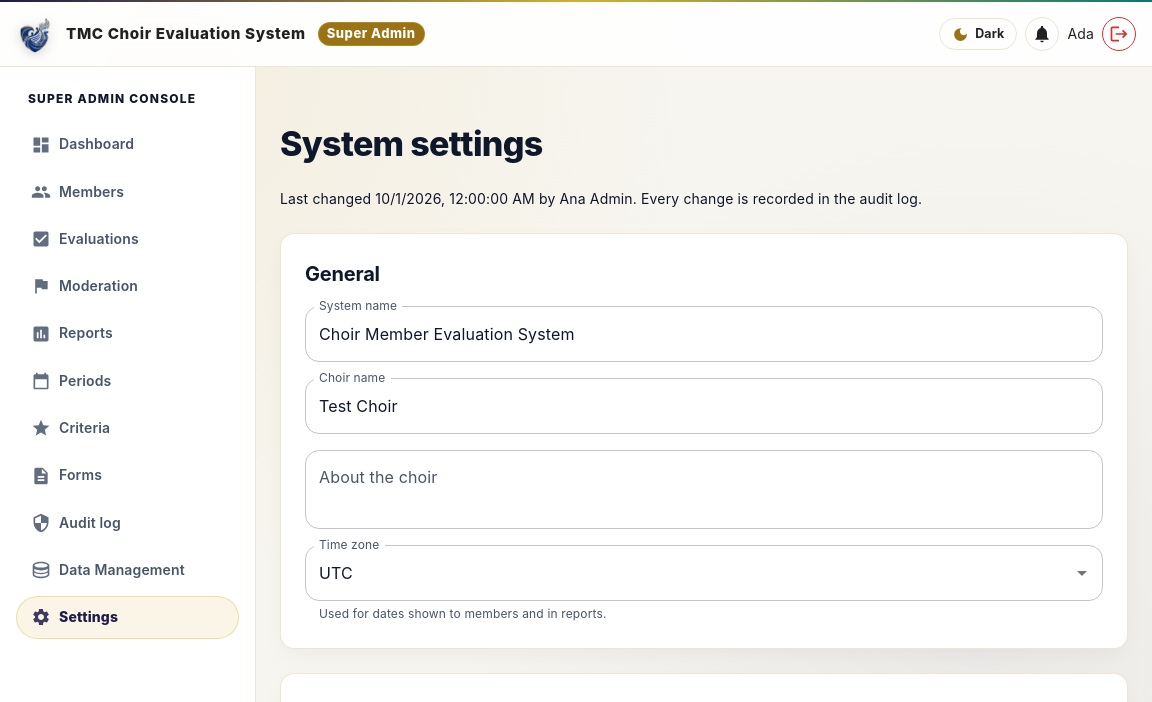
Test: System settings (SET-01/03) › saves only what changed
Replace the text in the field labelled "Choir name" with "St. Cecilia" at (704, 406), box [305, 378, 1103, 434]
(page scrolled)
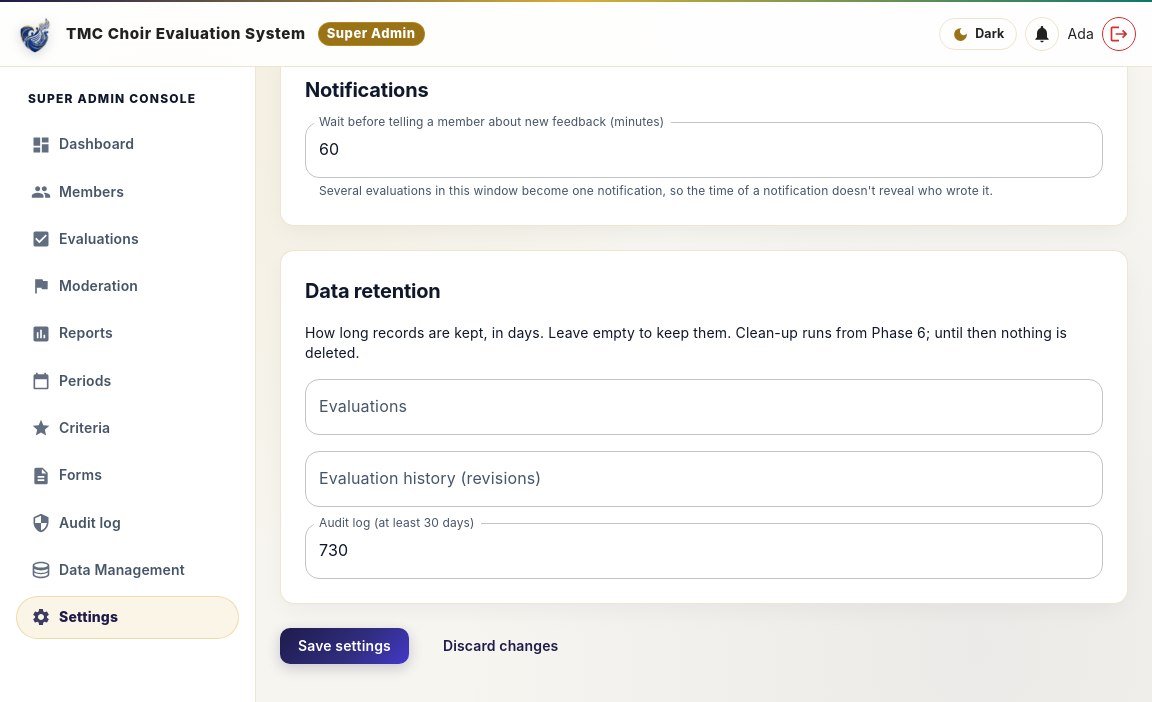
Click the button "Save settings" at (344, 646), box [280, 628, 409, 664]
(page scrolled)
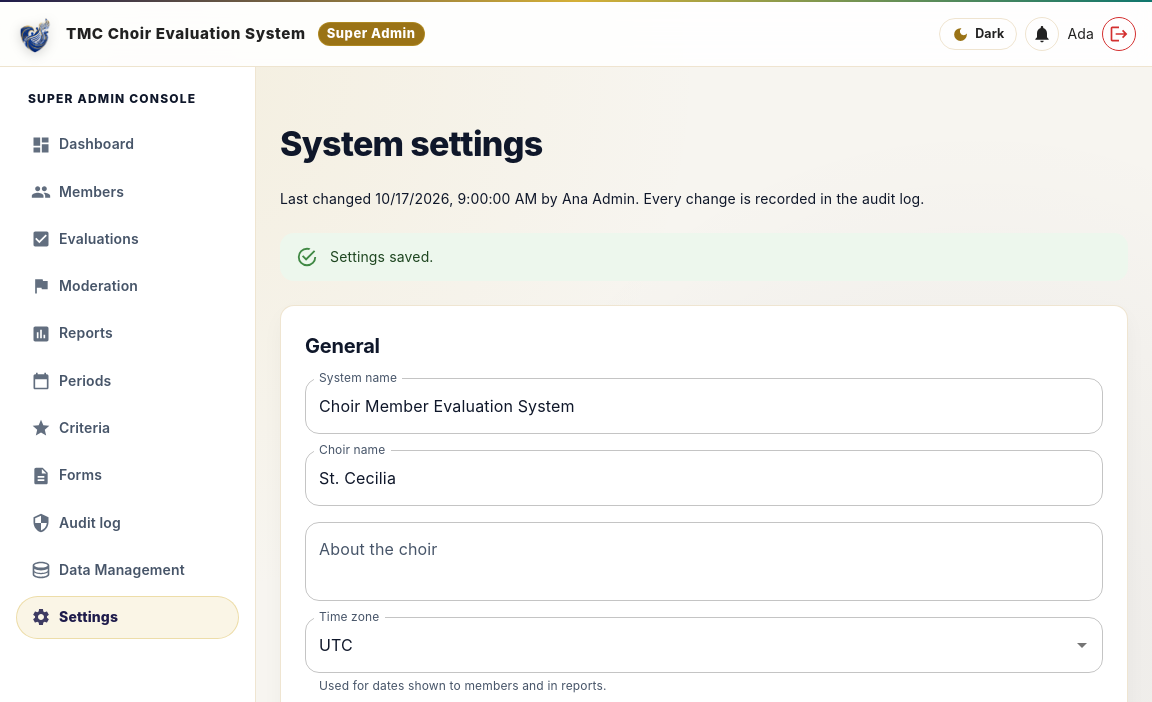
Check: the text "Settings saved." is shown, box [330, 248, 434, 265]
